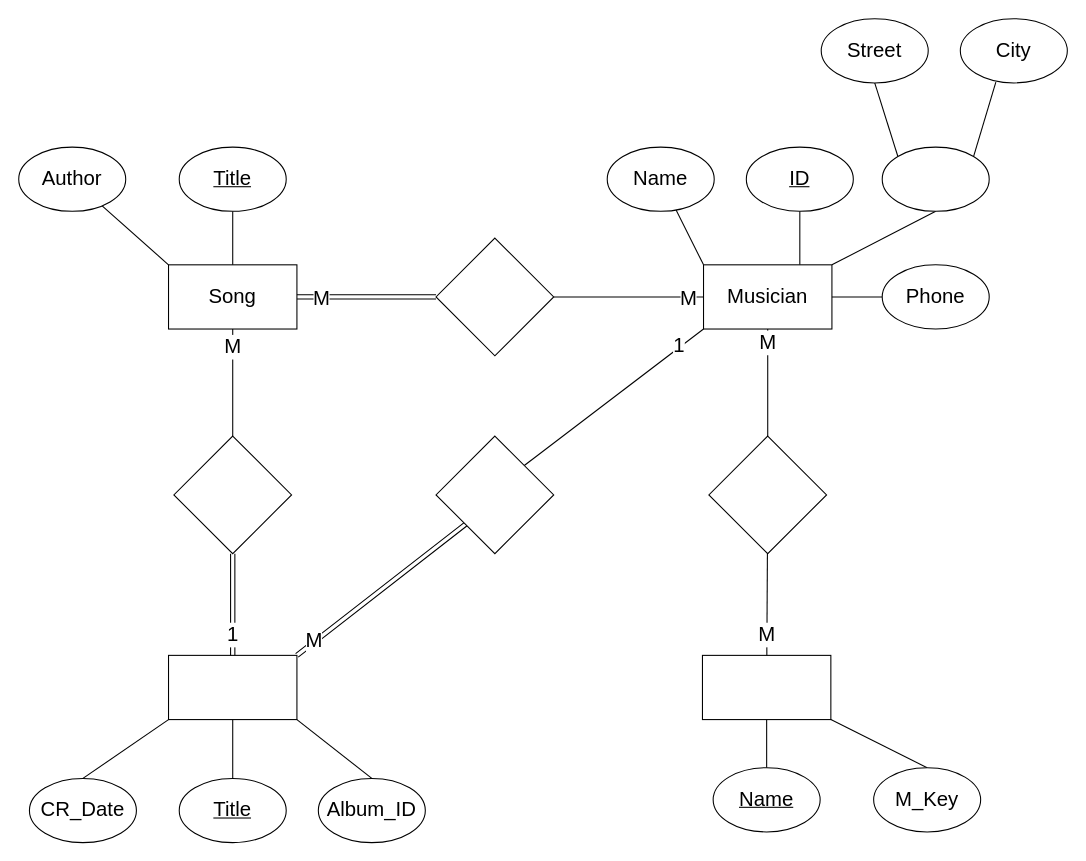
This 1086x861 diagram has some shape labels left out. The shapes that lost their labels are listed below. From the top down, each one's box as (x1, y1, x2, y2) in pixels, then its label:
(881, 146, 989, 211): Address
(435, 237, 554, 356): Perform
(173, 435, 292, 554): Has
(435, 435, 554, 554): Produce
(708, 435, 827, 554): Play
(167, 654, 297, 720): Album
(701, 654, 831, 720): Instrument
